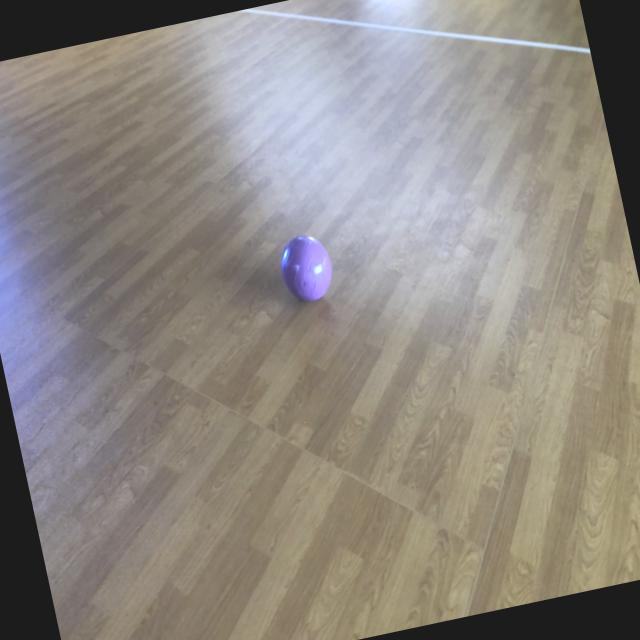purple_ball: (274, 230, 336, 306)
